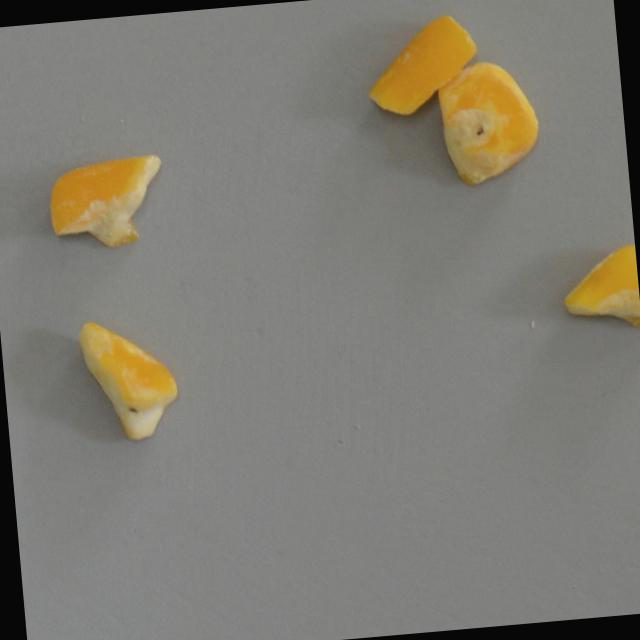estandar: (358, 9, 483, 121)
pelicula: (42, 143, 168, 252), (559, 237, 640, 343)
punto_negro: (76, 305, 183, 453), (430, 56, 545, 186)
